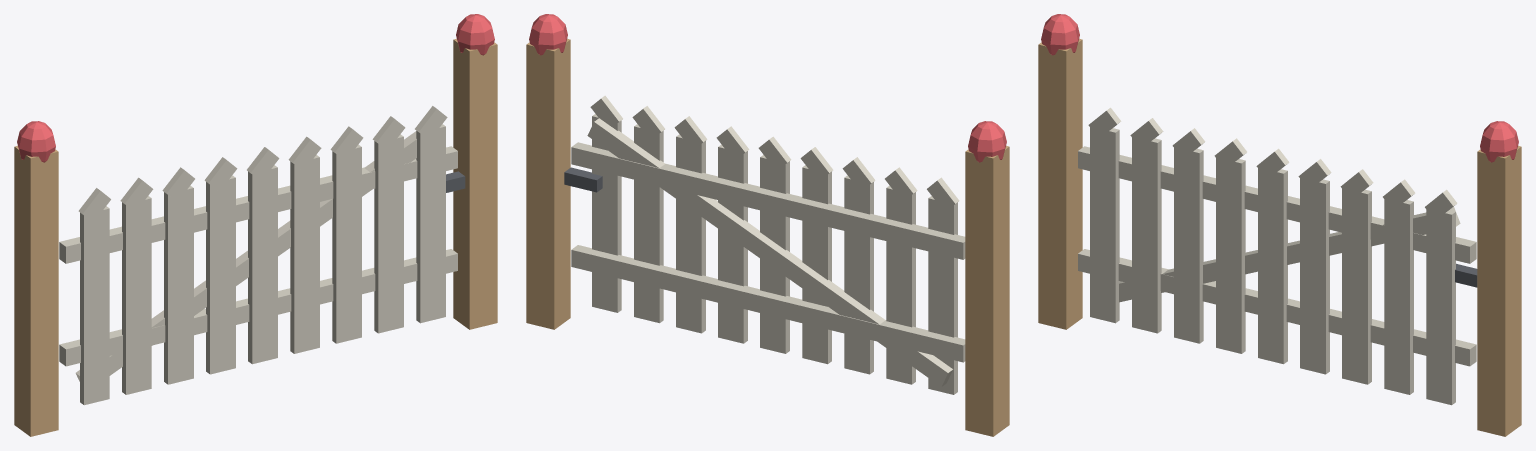
Rendered from lawn-mowing-simulator-kit-picket-gate-2m-003e18e1__27389.glb.
3 renders of one model, left to right at view 1: azimuth 30°, elevation 25°; view 2: azimuth 150°, elevation 25°; view 3: azimuth 330°, elevation 25°, orthographic.
Parts seen in each view (by area): view 1: gate/cream, picket-gate-2m; view 2: gate/cream, picket-gate-2m, gate/dark; view 3: gate/cream, picket-gate-2m.
Part boxes in pixels (bbox=[...]): gate/cream: bbox=[59, 106, 457, 405]; picket-gate-2m: bbox=[14, 14, 497, 436]; gate/cream: bbox=[571, 95, 965, 394]; picket-gate-2m: bbox=[526, 14, 1009, 436]; gate/dark: bbox=[564, 167, 602, 192]; gate/cream: bbox=[1078, 107, 1476, 405]; picket-gate-2m: bbox=[1038, 14, 1521, 436].
Size of the model in its own units: 2.03 by 1.25 by 0.1499.
